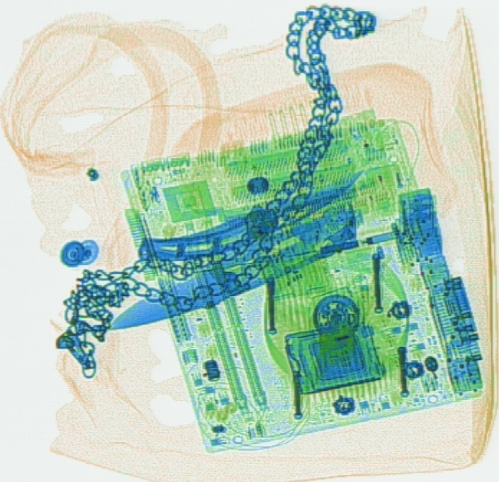knife: (108, 208, 361, 328), (136, 168, 367, 260)
